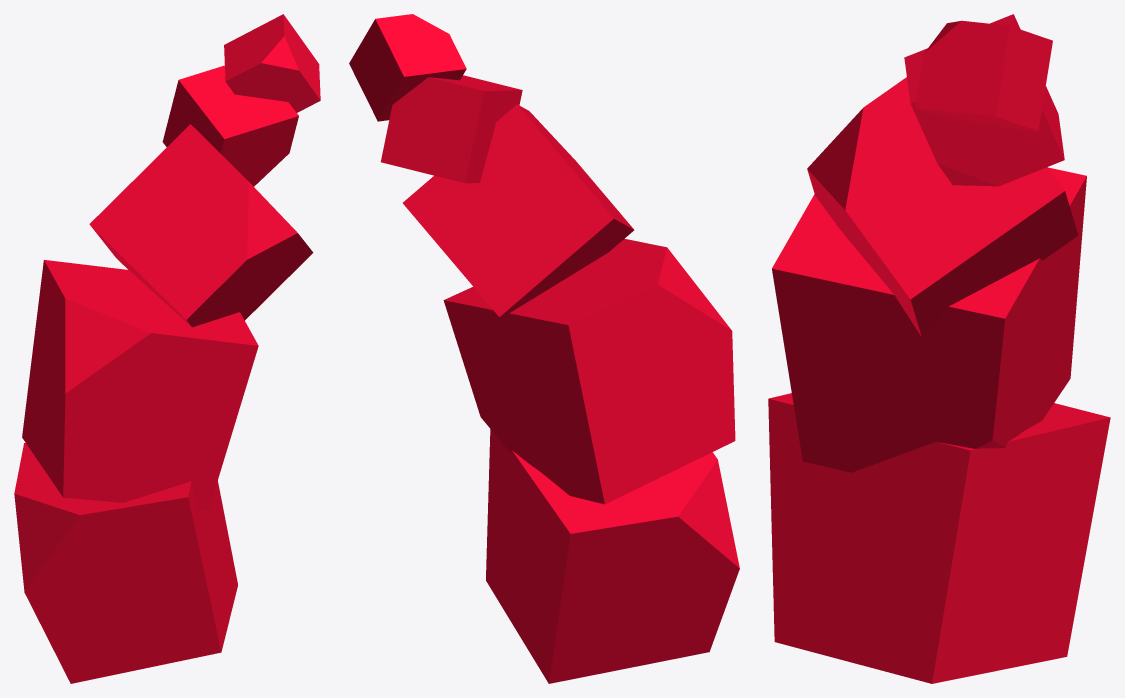
The model's file is CubRock008.FBX.
The picture shows the model from 3 angles, left to right: view 1: azimuth 30°, elevation 25°; view 2: azimuth 150°, elevation 25°; view 3: azimuth 270°, elevation 25°; orthographic projection. The views are drawn at different scales.
Visible parts, largest first — view 1: RockPile006, RockPile009, RockPile010, RockPile007, RockPile008; view 2: RockPile006, RockPile009, RockPile010, RockPile007, RockPile008; view 3: RockPile009, RockPile006, RockPile010, RockPile008, RockPile007.
Part boxes in pixels (bbox=[...]): RockPile006: bbox=[22, 260, 258, 510]; RockPile009: bbox=[14, 443, 237, 683]; RockPile010: bbox=[89, 124, 313, 327]; RockPile007: bbox=[162, 65, 298, 186]; RockPile008: bbox=[224, 14, 320, 112]; RockPile006: bbox=[443, 238, 735, 504]; RockPile009: bbox=[486, 429, 739, 683]; RockPile010: bbox=[403, 104, 634, 319]; RockPile007: bbox=[381, 75, 522, 183]; RockPile008: bbox=[349, 14, 466, 121]; RockPile009: bbox=[768, 393, 1110, 683]; RockPile006: bbox=[772, 167, 1086, 472]; RockPile010: bbox=[807, 77, 1078, 337]; RockPile008: bbox=[915, 20, 1052, 131]; RockPile007: bbox=[904, 14, 1064, 186].
Size of the model in its own units: 95.39 by 156 by 64.25.
